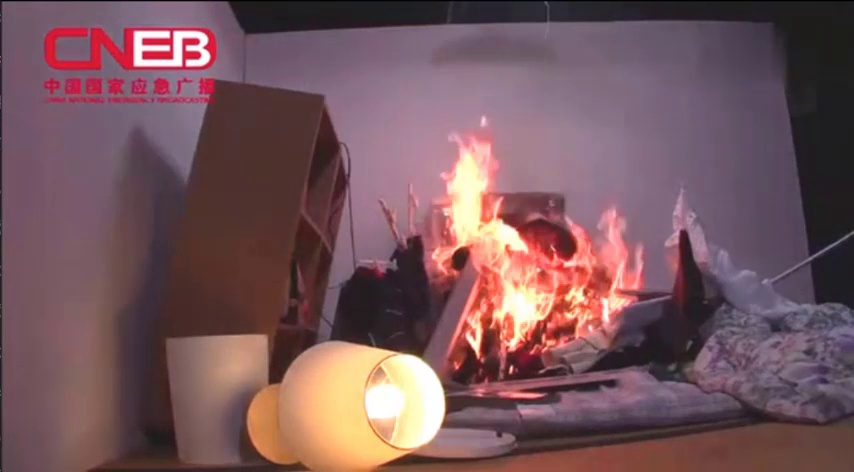fire: (414, 102, 649, 388)
